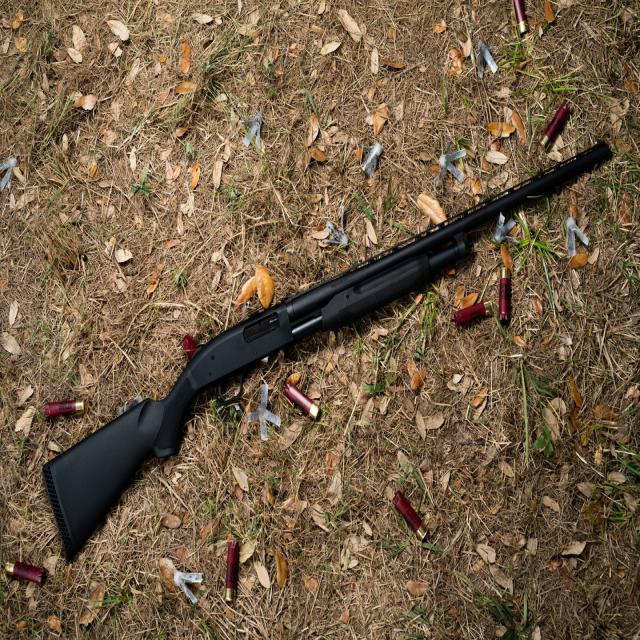ShotGun: (44, 143, 615, 563)
